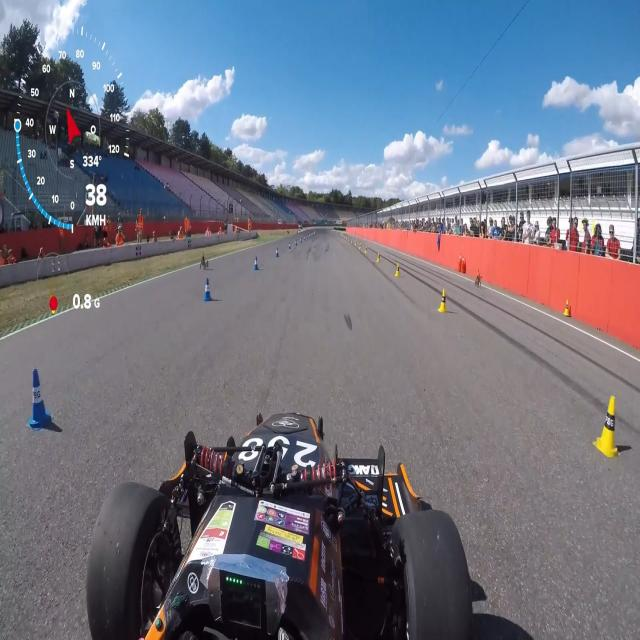blue_cone: (24, 360, 48, 430), (203, 276, 212, 304), (253, 256, 258, 270), (274, 248, 278, 259), (288, 241, 290, 250), (296, 240, 298, 247), (300, 238, 302, 243)
orange_cone: (462, 256, 466, 266), (459, 252, 462, 262)
yellow_cone: (593, 388, 618, 459), (438, 284, 448, 315), (394, 262, 400, 278), (564, 298, 569, 316), (377, 251, 381, 263), (359, 241, 362, 250), (365, 246, 368, 254), (355, 238, 357, 247)
